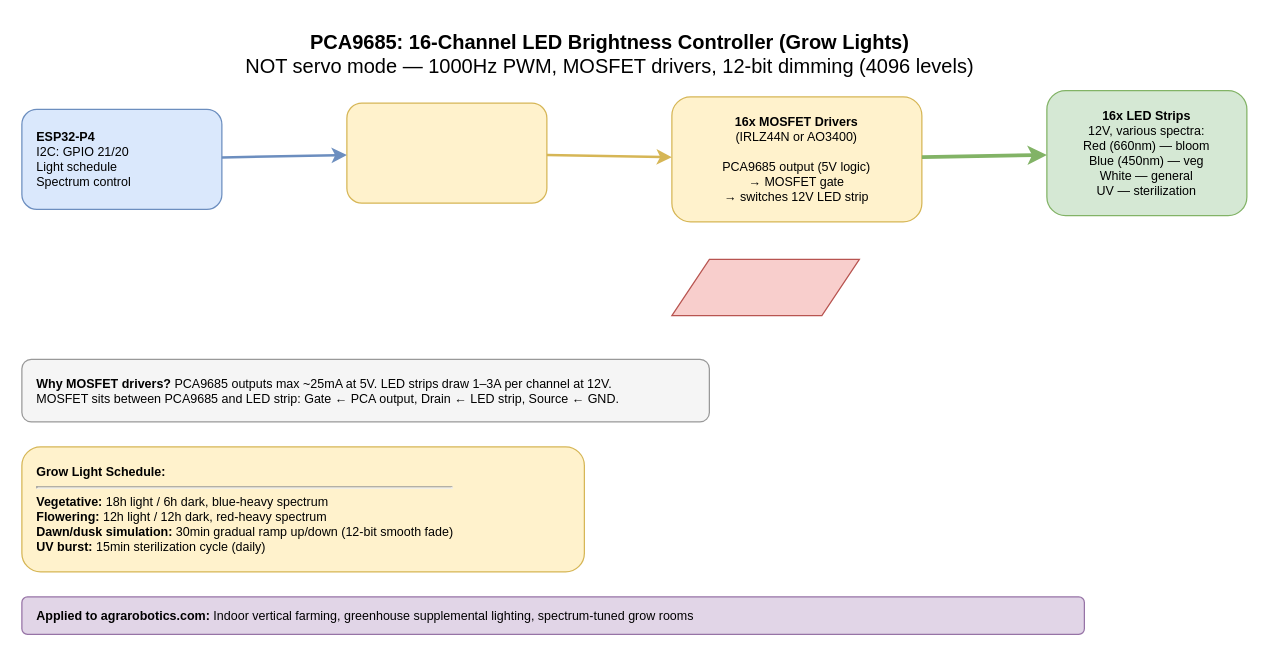
This 1269x656 diagram has some shape labels left out. The shapes that lost their labels are listed below. From the top down, each one's centre as x and y in pixels, then its label:
At (446,152): "PCA9685 (0x40) 1000Hz (not 50Hz!) 16 PWM outputs".
At (765,287): "12V LED Supply (10A+)".
